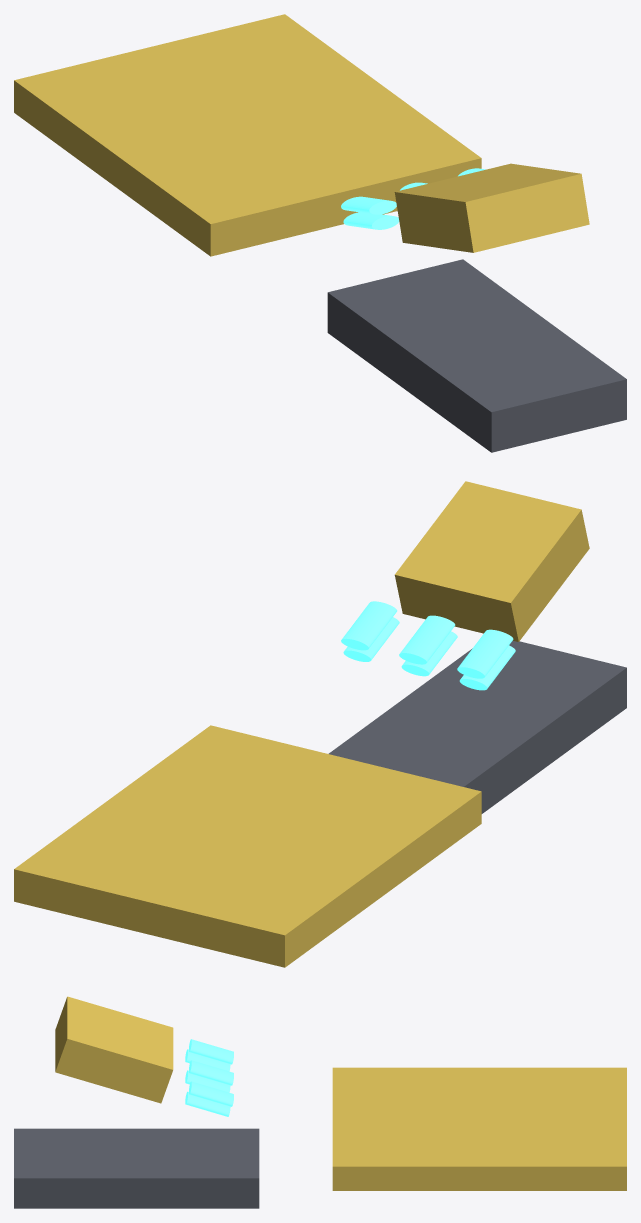
The model's file is CO_MonsoonArtillery_LOD2.glb.
3 renders of one model, top to bottom at view 1: azimuth 30°, elevation 25°; view 2: azimuth 150°, elevation 25°; view 3: azimuth 270°, elevation 25°, orthographic. The views are drawn at different scales.
Visible parts, largest first — view 1: Cube.001, Cube, Cube.002, Cylinder, Cylinder.001; view 2: Cube.001, Cube, Cube.002, Cylinder, Cylinder.004, Cylinder.002, Cylinder.003, Cylinder.001, Cylinder.005; view 3: Cube.001, Cube, Cube.002, Cylinder, Cylinder.002, Cylinder.004, Cylinder.005, Cylinder.001, Cylinder.003.
Part boxes in pixels (<box>): Cube.001: <box>14,14,481,256</box>; Cube: <box>327,259,626,452</box>; Cube.002: <box>394,163,589,252</box>; Cylinder: <box>341,196,396,214</box>; Cylinder.001: <box>343,212,399,229</box>; Cube.001: <box>14,725,481,967</box>; Cube: <box>328,641,626,813</box>; Cube.002: <box>394,481,589,641</box>; Cylinder: <box>457,629,513,678</box>; Cylinder.004: <box>341,601,397,650</box>; Cylinder.002: <box>399,615,455,664</box>; Cylinder.003: <box>401,631,457,676</box>; Cylinder.001: <box>459,645,515,690</box>; Cylinder.005: <box>343,617,399,661</box>; Cube.001: <box>332,1067,626,1190</box>; Cube: <box>14,1128,259,1208</box>; Cube.002: <box>55,996,173,1103</box>; Cylinder: <box>189,1039,233,1064</box>; Cylinder.002: <box>189,1060,233,1085</box>; Cylinder.004: <box>189,1081,233,1106</box>; Cylinder.005: <box>185,1091,230,1116</box>; Cylinder.001: <box>185,1049,230,1071</box>; Cylinder.003: <box>185,1070,230,1092</box>.
Size of what is drawn, in the model's own units: 4.2 by 3.29 by 11.
